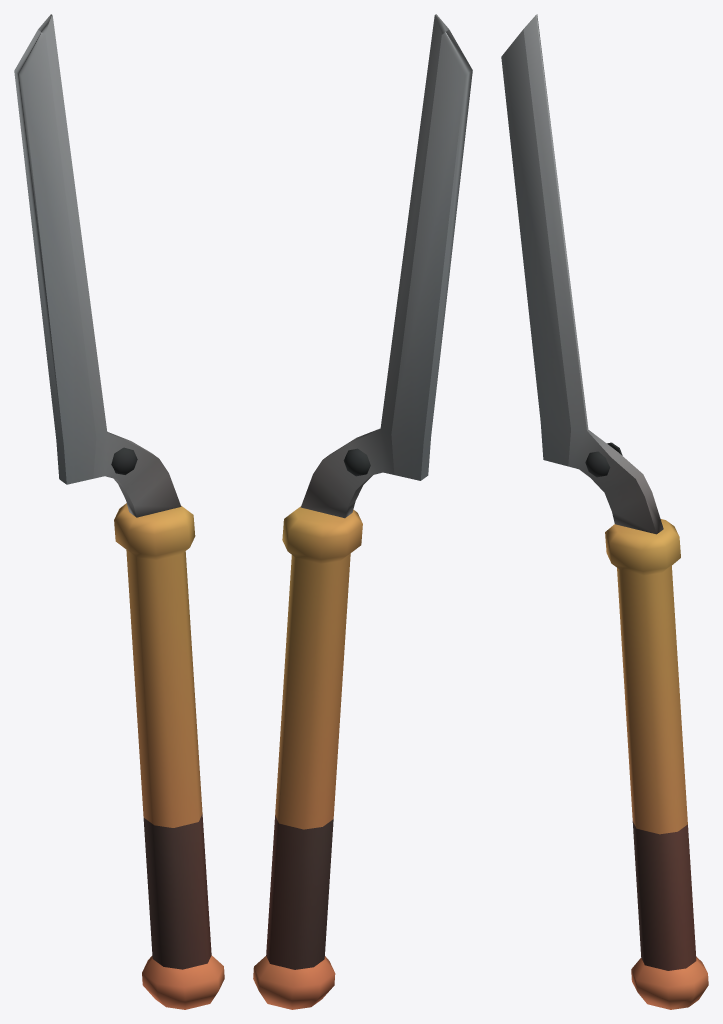
Rendered from GardenShears.fbx.
3 views of the same model, side by side, from view 1: azimuth 30°, elevation 25°; view 2: azimuth 150°, elevation 25°; view 3: azimuth 330°, elevation 25° (orthographic). The views are drawn at different scales.
Parts seen in each view (by area): view 1: GardenShears; view 2: GardenShears; view 3: GardenShears.
Part boxes in pixels (x1,y1,x2,y2): GardenShears: (14, 14, 224, 1009); GardenShears: (253, 14, 472, 1009); GardenShears: (501, 14, 708, 1009).
Bounding box in the file's own units: 22.27 × 6.94 × 106.
